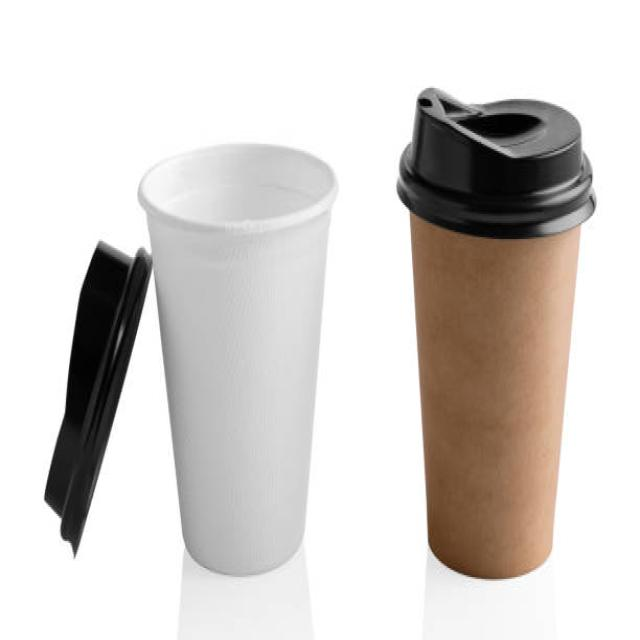cup: (391, 90, 594, 586), (133, 141, 336, 569)
